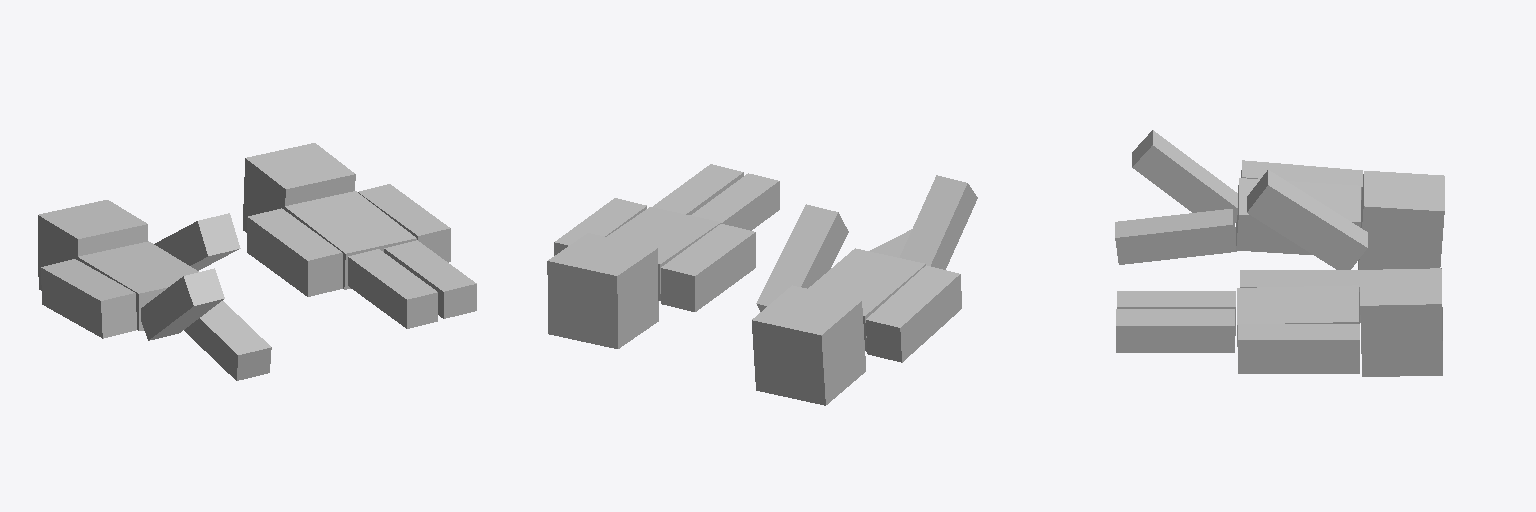
The model's file is steve_000027.obj.
3 views of the same model, side by side, from view 1: azimuth 30°, elevation 25°; view 2: azimuth 150°, elevation 25°; view 3: azimuth 270°, elevation 25° (orthographic).
Visible parts, largest first — view 1: Cube.001_Cube.002, Cube_Cube.001; view 2: Cube_Cube.001, Cube.001_Cube.002; view 3: Cube_Cube.001, Cube.001_Cube.002.
Boxes of the visible parts, box(x1,y1,x2,y2) form: Cube.001_Cube.002: box(243, 143, 476, 328); Cube_Cube.001: box(38, 200, 271, 380); Cube_Cube.001: box(752, 175, 977, 405); Cube.001_Cube.002: box(547, 164, 779, 348); Cube_Cube.001: box(1115, 130, 1444, 269); Cube.001_Cube.002: box(1116, 268, 1442, 376).
Size of the model in its own units: 6.55 by 2.15 by 5.39.